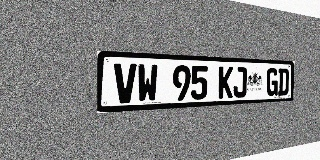5: (191, 65, 208, 100)
9: (173, 65, 191, 101)
D: (278, 68, 289, 96)
G: (266, 68, 278, 96)
J: (233, 67, 247, 98)
K: (218, 66, 233, 99)
V: (114, 63, 137, 104)
W: (137, 64, 158, 103)
